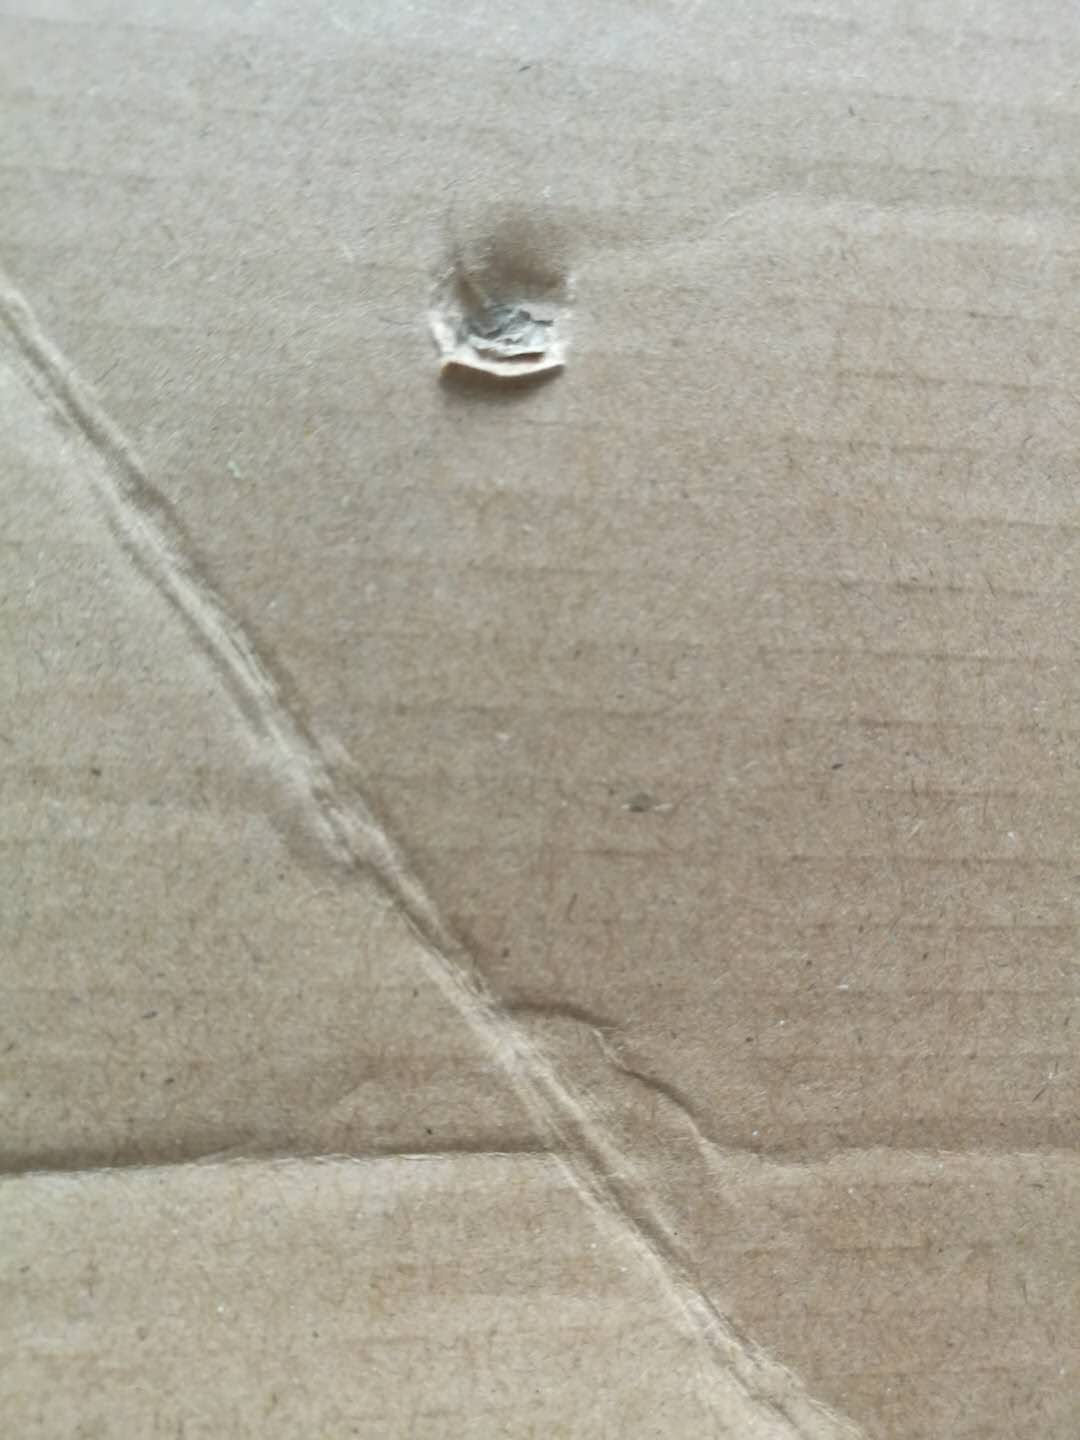defect: (5, 262, 1075, 1435), (383, 188, 615, 418)
